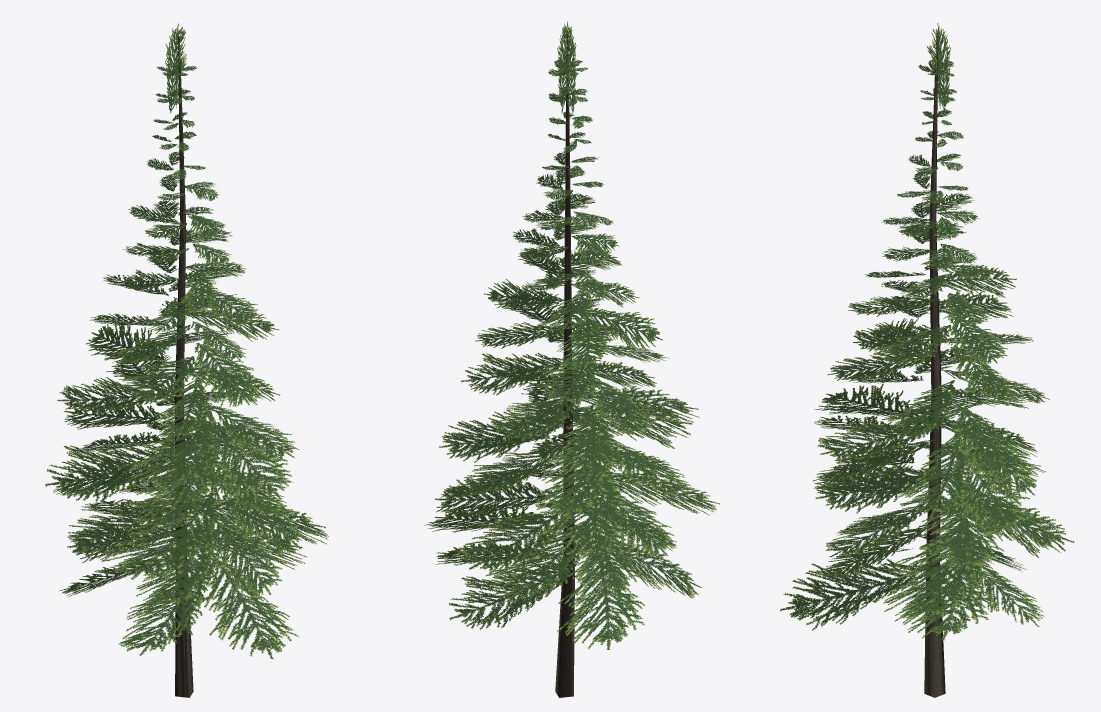
Rendered from mid.glb.
3 views of the same model, side by side, from view 1: azimuth 30°, elevation 25°; view 2: azimuth 150°, elevation 25°; view 3: azimuth 270°, elevation 25° (orthographic).
Parts seen in each view (by area): view 1: spruce_03; view 2: spruce_03; view 3: spruce_03.
Boxes of the visible parts, x1=… form: spruce_03: x1=45, y1=23, x2=328, y2=697; spruce_03: x1=424, y1=21, x2=719, y2=697; spruce_03: x1=780, y1=23, x2=1074, y2=697.
Size of the model in its own units: 6.3 by 13.97 by 6.09.
2 materials, 2 textured.
